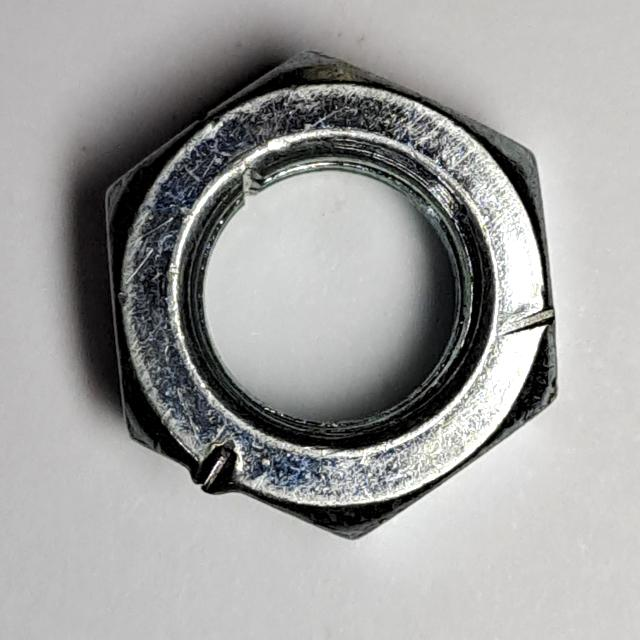Scratches: (94, 43, 570, 555)
